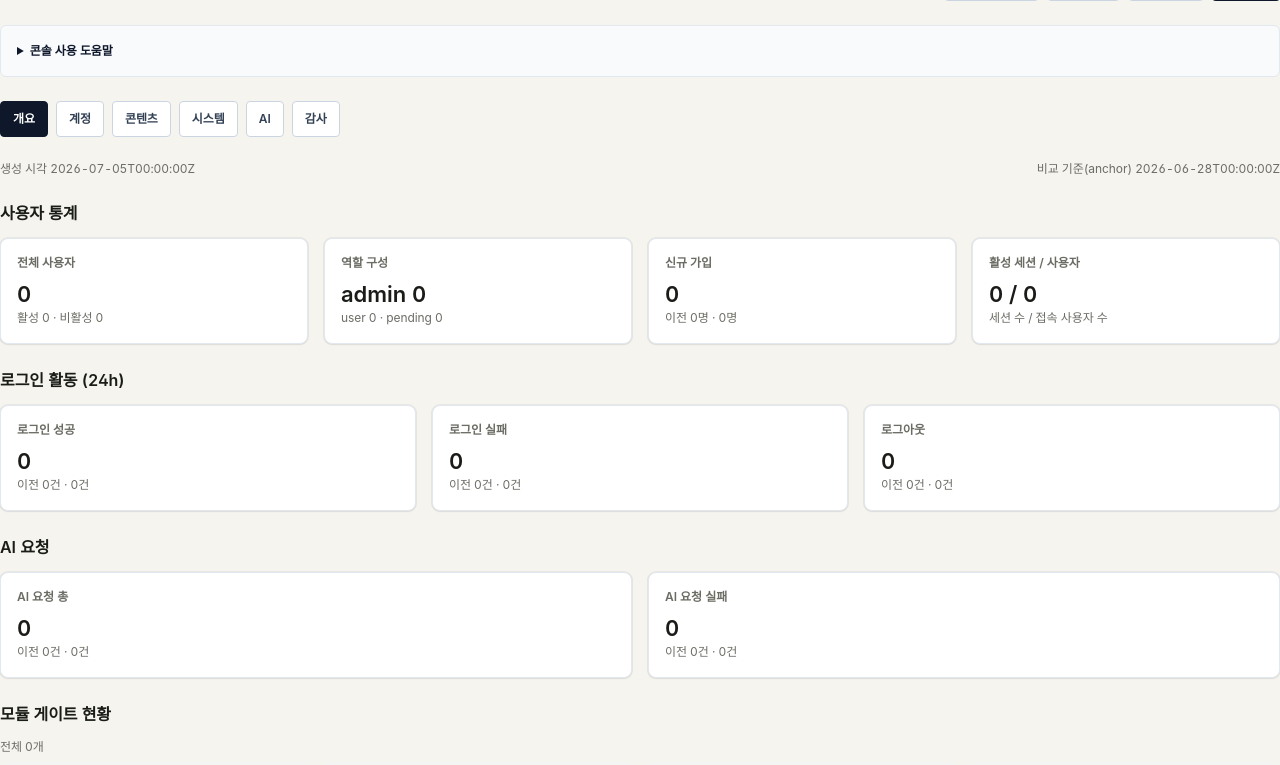
Test: 세션 tab shows a retry control (not zeros) when connectedUsers fetch degrades
The width and height of the screenshot is (1280, 765).
Click the tab "계정": (80, 119) [56,101,104,137]
(page scrolled)
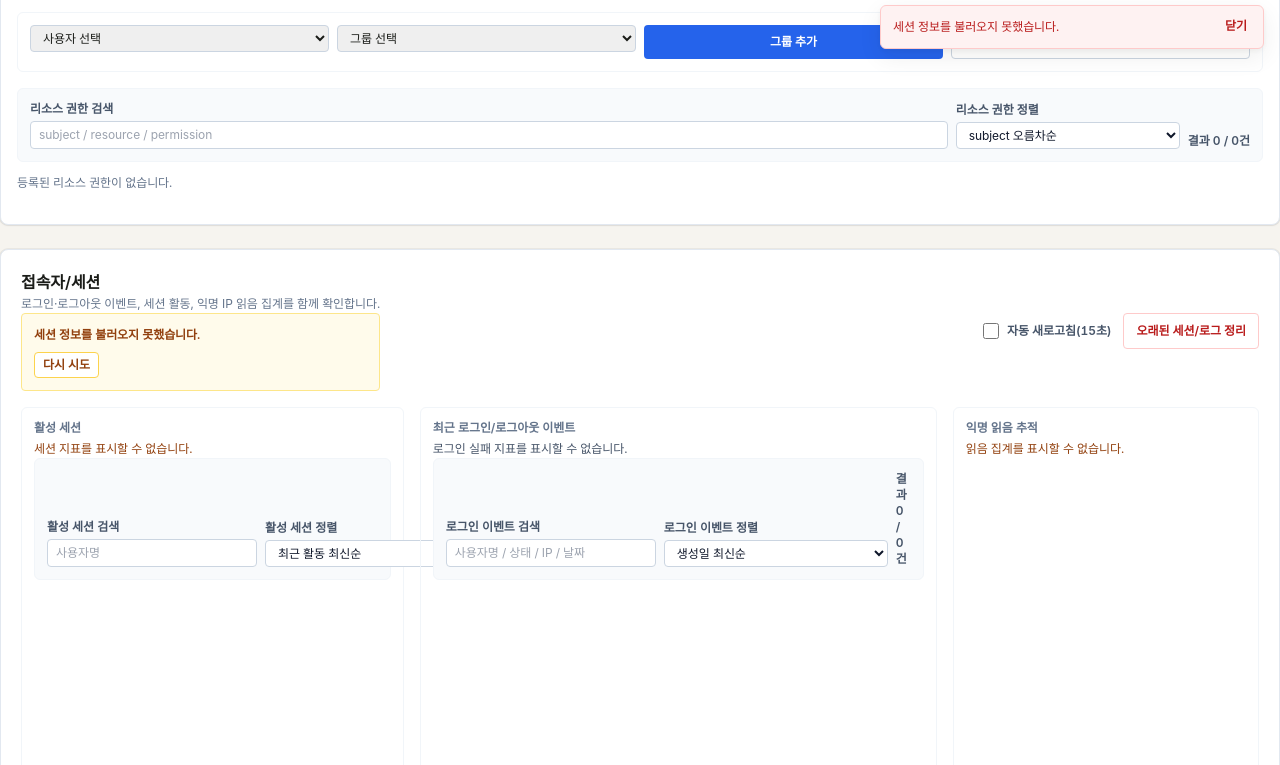
Expected: the heading "접속자/세션" is shown, [21,272,100,292]
Expected: the button "다시 시도" is shown
Expected: the text "로그인 실패 지표를 표시할 수 없습니다." is shown, [433,441,627,456]
Click the button "다시 시도": (66, 365) [34,352,99,378]
(page scrolled)
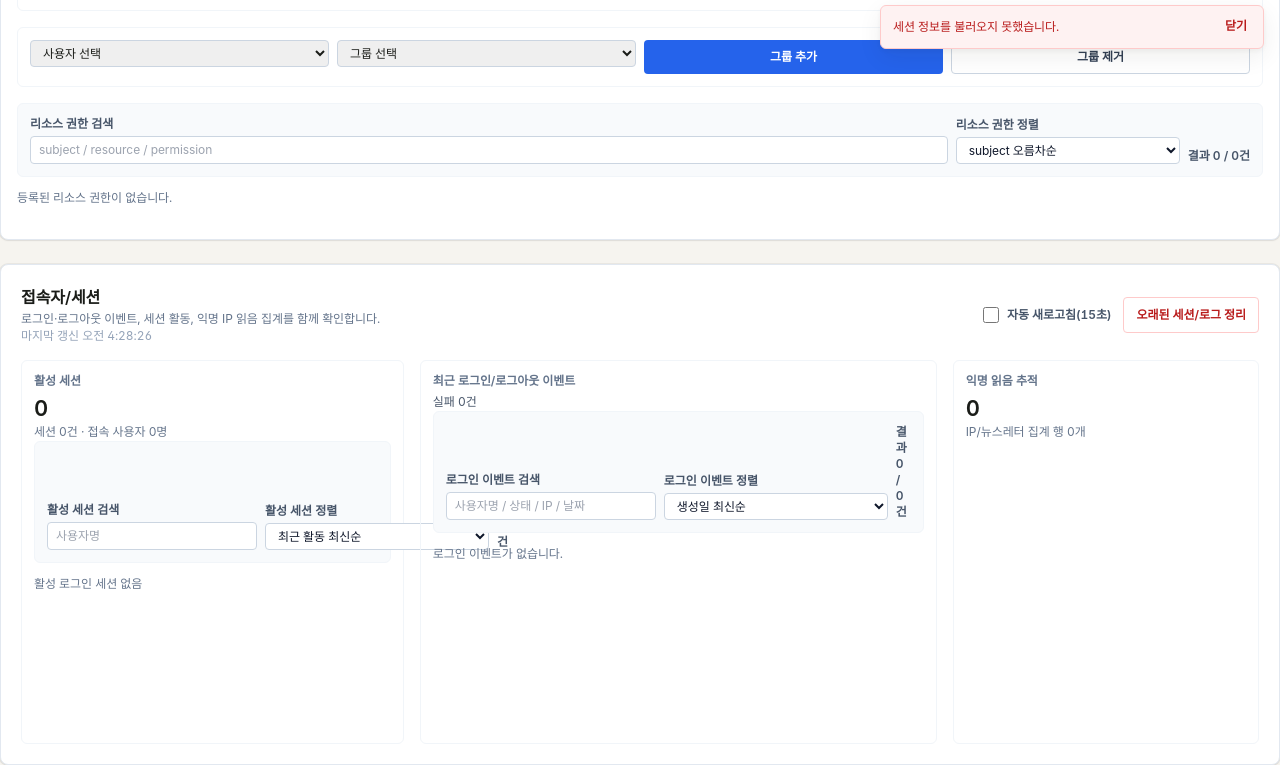
Expected: the button "다시 시도" is gone
